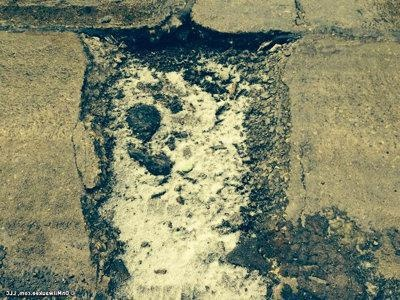pothole: (71, 14, 311, 299)
